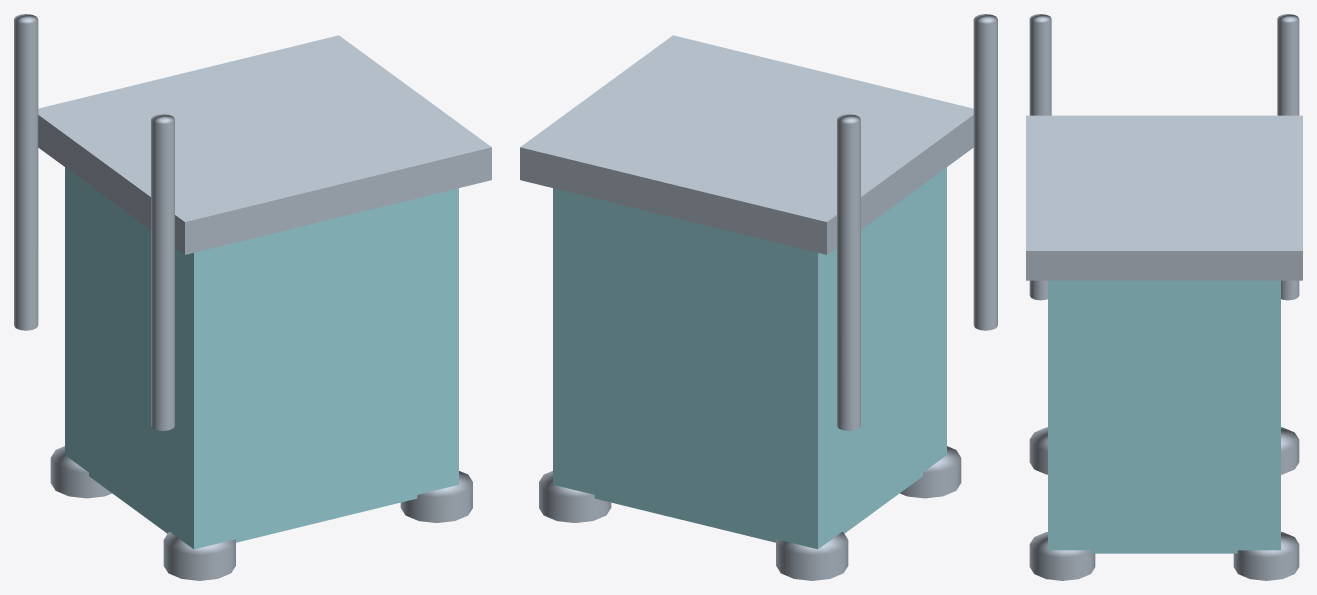
File: medical_cart.glb
The picture shows the model from 3 angles, left to right: view 1: azimuth 30°, elevation 25°; view 2: azimuth 150°, elevation 25°; view 3: azimuth 270°, elevation 25°; orthographic projection. The views are drawn at different scales.
Parts seen in each view (by area): view 1: medical cart body with drawer stack, top tray lip, left cart handle post, right cart handle post, small caster wheel (×3); view 2: medical cart body with drawer stack, top tray lip, right cart handle post, left cart handle post, small caster wheel (×3); view 3: medical cart body with drawer stack, top tray lip, small caster wheel (×4), left cart handle post, right cart handle post.
Boxes of the visible parts, bbox=[...] form: medical cart body with drawer stack: bbox=[65, 167, 458, 549]; top tray lip: bbox=[38, 35, 491, 254]; left cart handle post: bbox=[14, 14, 38, 330]; right cart handle post: bbox=[151, 114, 174, 430]; small caster wheel (×3): bbox=[50, 446, 472, 580]; medical cart body with drawer stack: bbox=[553, 167, 946, 549]; top tray lip: bbox=[520, 35, 973, 254]; right cart handle post: bbox=[973, 14, 997, 330]; left cart handle post: bbox=[837, 114, 860, 430]; small caster wheel (×3): bbox=[539, 446, 961, 580]; medical cart body with drawer stack: bbox=[1048, 280, 1280, 553]; top tray lip: bbox=[1026, 115, 1302, 280]; small caster wheel (×4): bbox=[1029, 427, 1299, 580]; left cart handle post: bbox=[1277, 14, 1299, 300]; right cart handle post: bbox=[1029, 14, 1051, 300].
Bounding box in the file's own units: 0.475 × 0.64 × 0.38.
